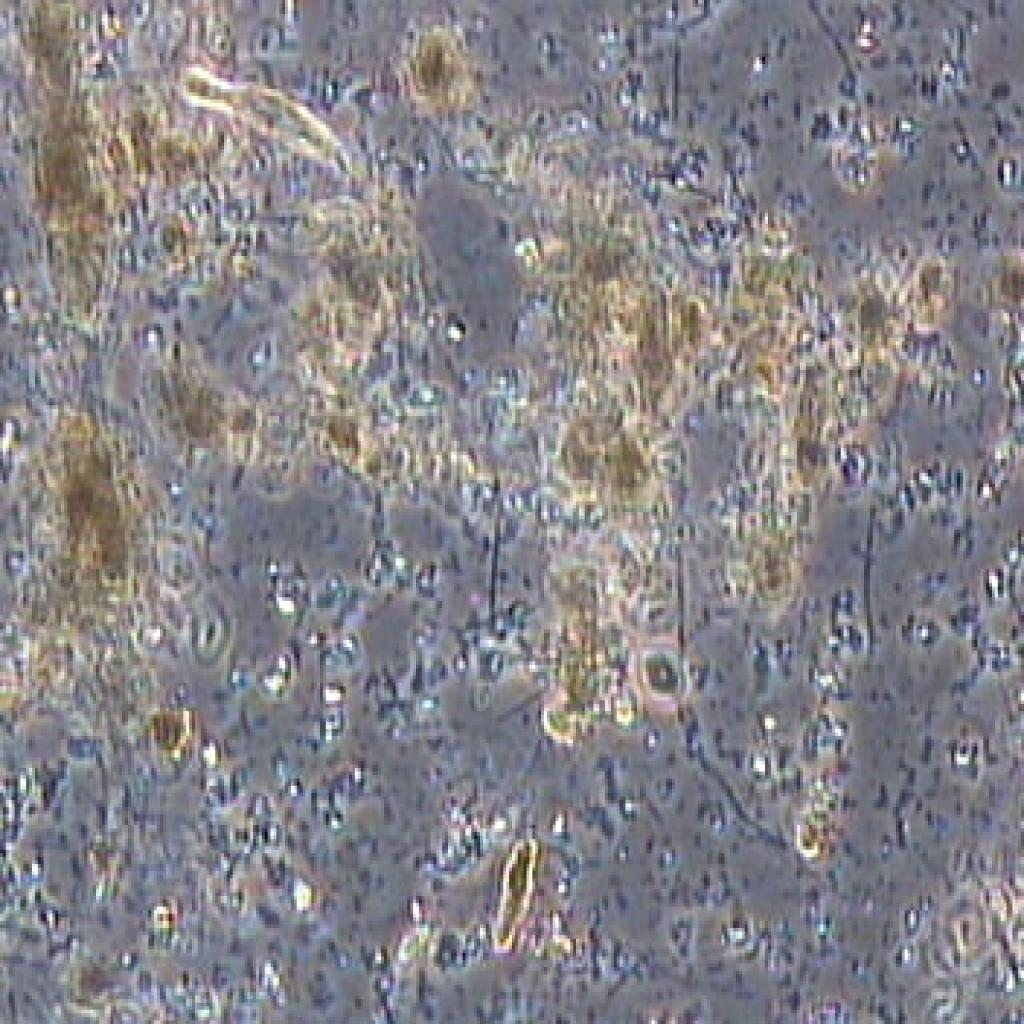Chaetonotus: (166, 55, 364, 187)
